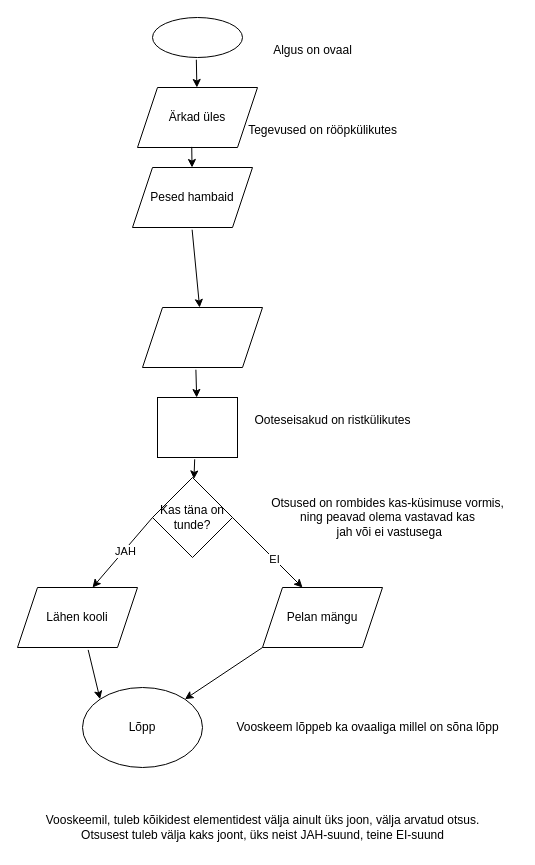
Some shapes in this 535 by 865 pixel diagram are drawn without their labels. The shapes that lost their labels are listed below. From the top down, each one's centre as x and y in pixels, then its label:
(x=197, y=37): Algus
(x=202, y=337): Jood ära 0,5L monsterit
(x=197, y=427): Ootad kuni üles ärkad
